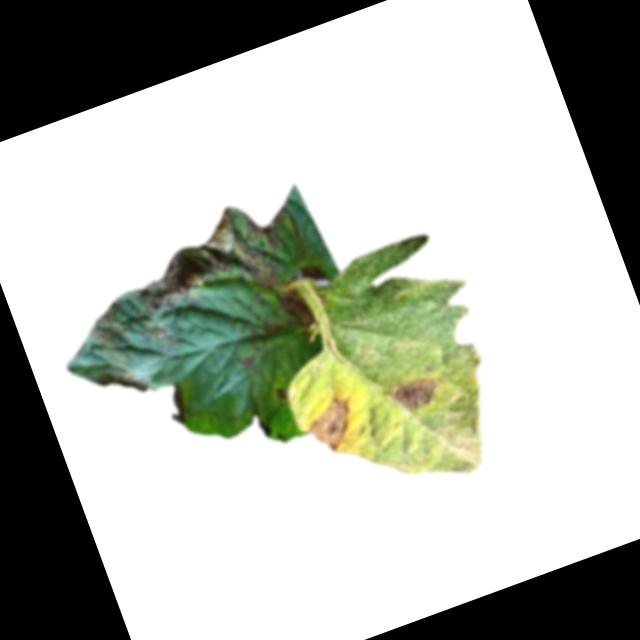Early_blight: (120, 185, 314, 332), (303, 391, 368, 458), (386, 371, 443, 417), (95, 361, 151, 405), (157, 381, 196, 430), (273, 286, 312, 331), (274, 383, 291, 399)
